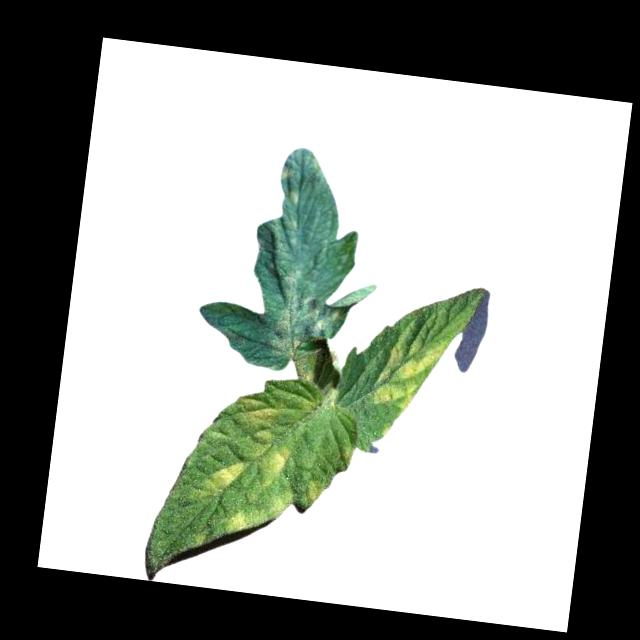Leaf_Mold: (260, 268, 342, 364), (365, 332, 446, 414), (231, 392, 279, 441), (193, 455, 245, 499), (261, 445, 292, 484), (297, 475, 328, 506), (220, 504, 249, 536)
